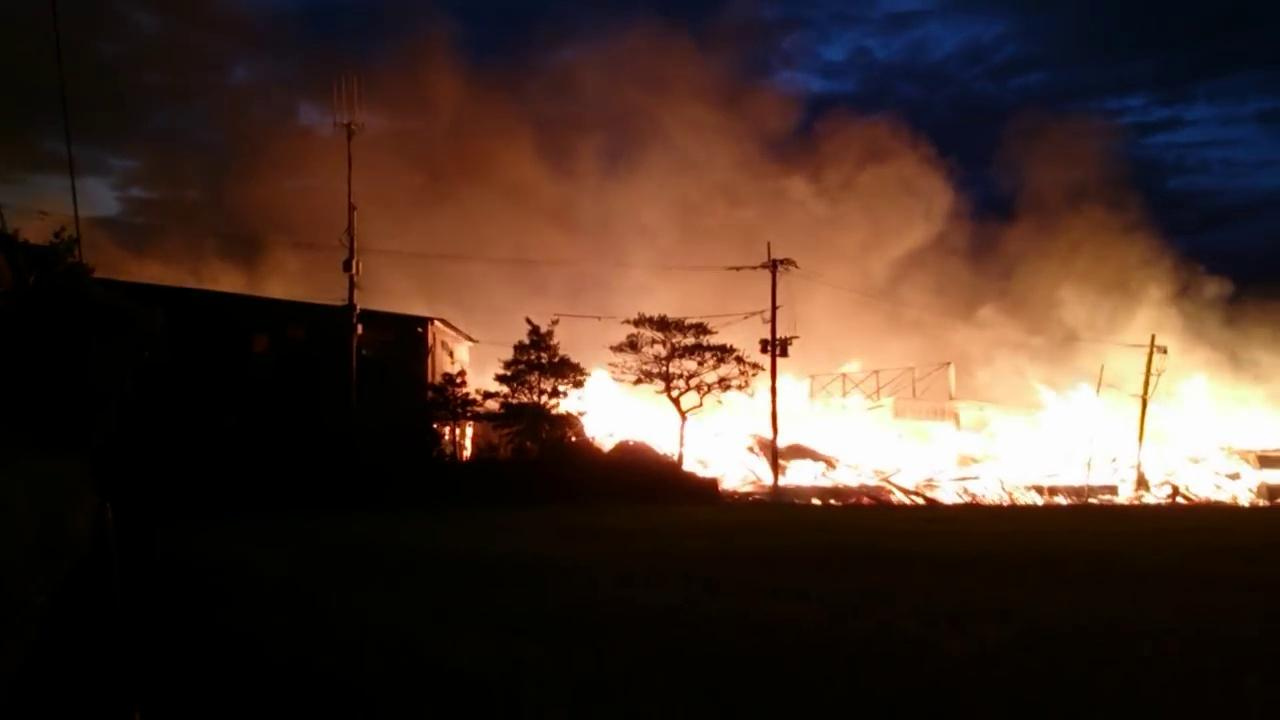fire: (540, 339, 1277, 503), (440, 422, 476, 462)
